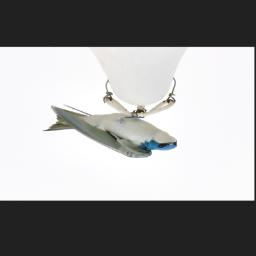Swallow: (41, 102, 178, 158)
